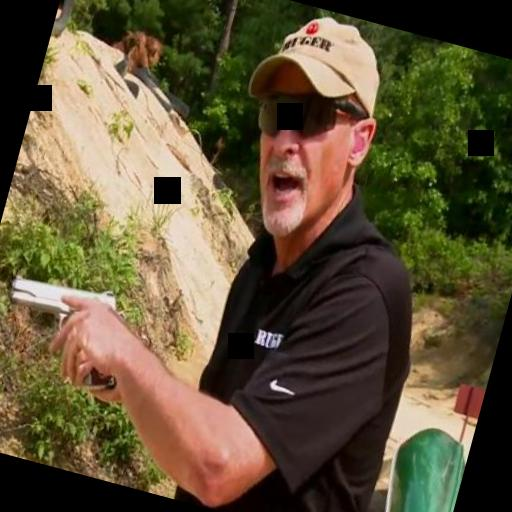Handgun: (0, 262, 138, 396)
